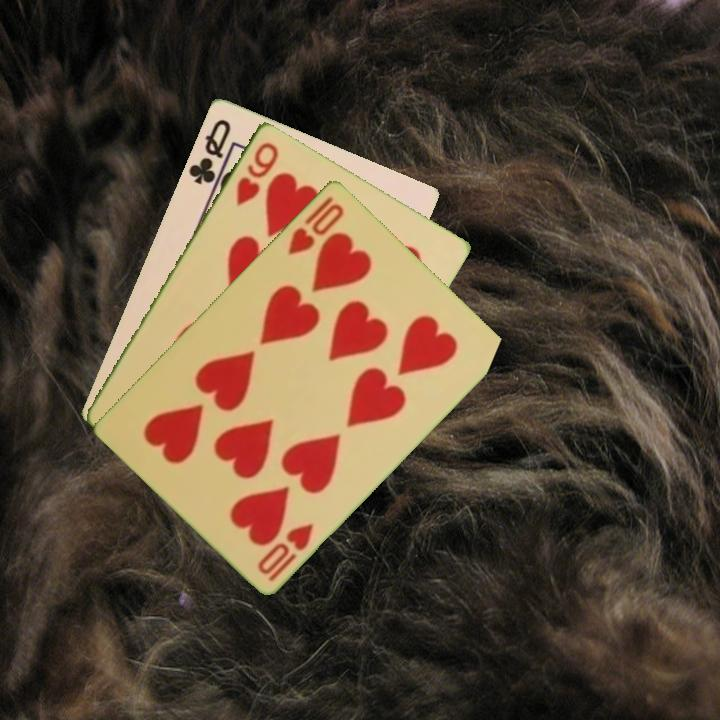10h: (254, 518, 317, 584), (284, 199, 347, 258)
9h: (232, 137, 282, 209)
Qc: (184, 114, 235, 194)
